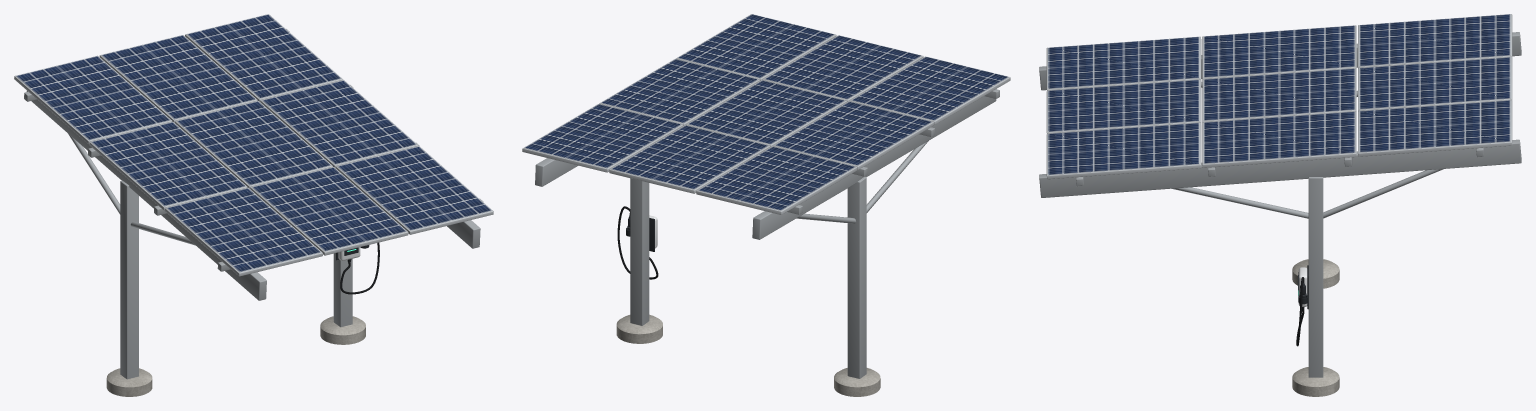
The model's file is solar-charging-canopy.glb.
The picture shows the model from 3 angles, left to right: view 1: azimuth 30°, elevation 25°; view 2: azimuth 150°, elevation 25°; view 3: azimuth 270°, elevation 25°; orthographic projection. The views are drawn at different scales.
Visible parts, largest first — view 1: Solar_Charging_Canopy; view 2: Solar_Charging_Canopy; view 3: Solar_Charging_Canopy.
Boxes of the visible parts, box(x1,y1,x2,y2) form: Solar_Charging_Canopy: box(14, 14, 493, 396); Solar_Charging_Canopy: box(522, 14, 1010, 396); Solar_Charging_Canopy: box(1039, 14, 1521, 396).
Size of the model in its own units: 3.5 by 3.1 by 5.3.
12 materials, 3 textured.
